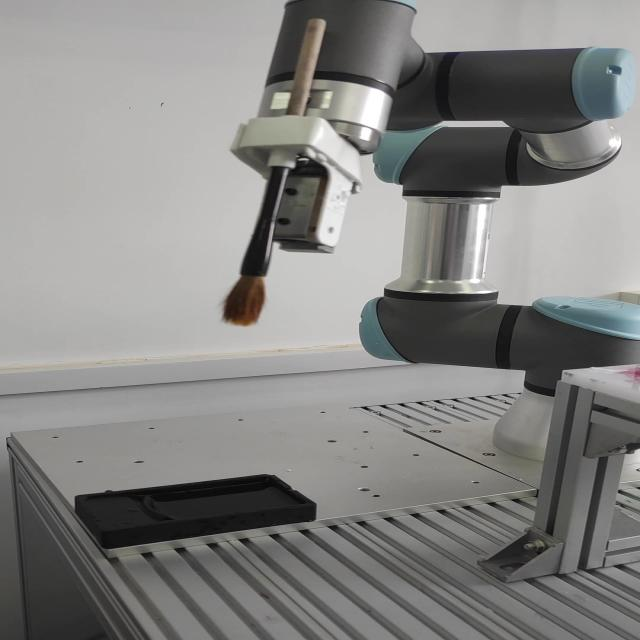head: (217, 278, 271, 323)
inkstone: (72, 472, 319, 546)
writing-brush: (219, 15, 344, 326)
